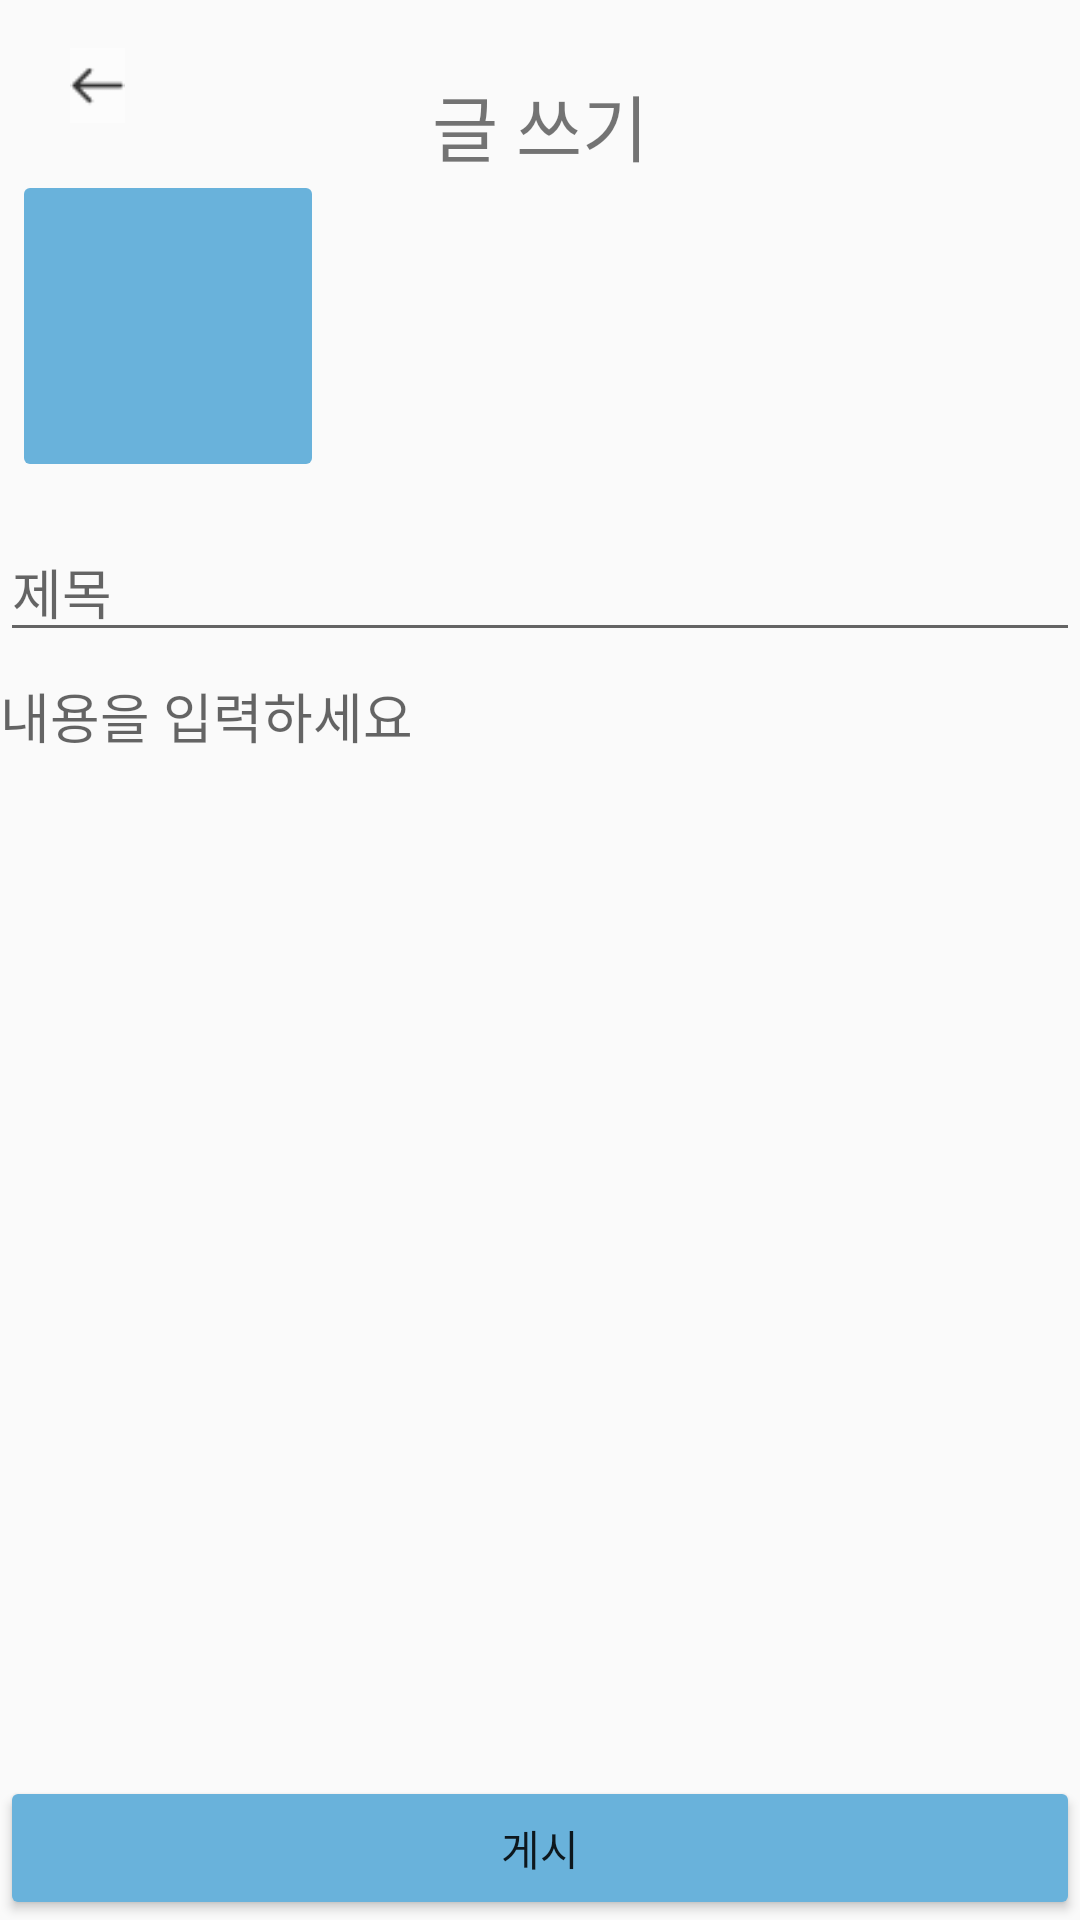

Point at icon controls on the screen. Image size 1080x1920, points as (x,y).
backarrow: (97,86)
